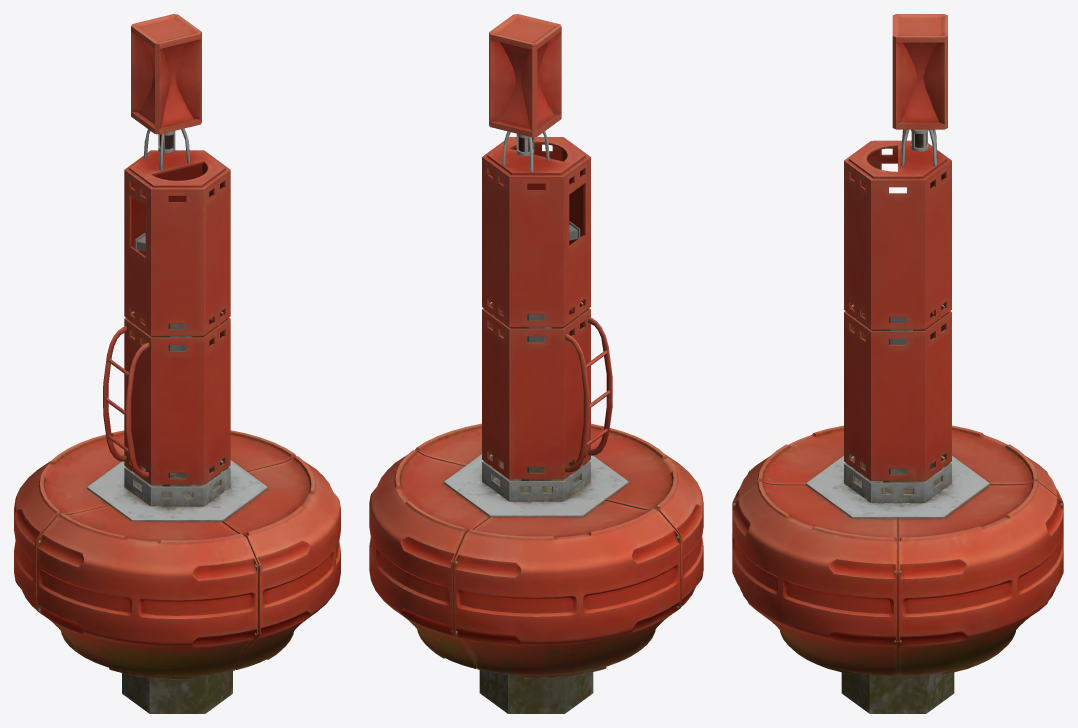
File: marker.gltf
3 views of the same model, side by side, from view 1: azimuth 30°, elevation 25°; view 2: azimuth 150°, elevation 25°; view 3: azimuth 270°, elevation 25° (orthographic). The views are drawn at different scales.
Visible parts, largest first — view 1: lateral_sea_marker; view 2: lateral_sea_marker; view 3: lateral_sea_marker.
Part boxes in pixels (x1,y1,x2,y2): lateral_sea_marker: (14,14,340,713); lateral_sea_marker: (369,14,703,713); lateral_sea_marker: (732,14,1063,713).
Size of the model in its own units: 3 by 6.84 by 3.
Materials: 1 (1 with a texture image).
